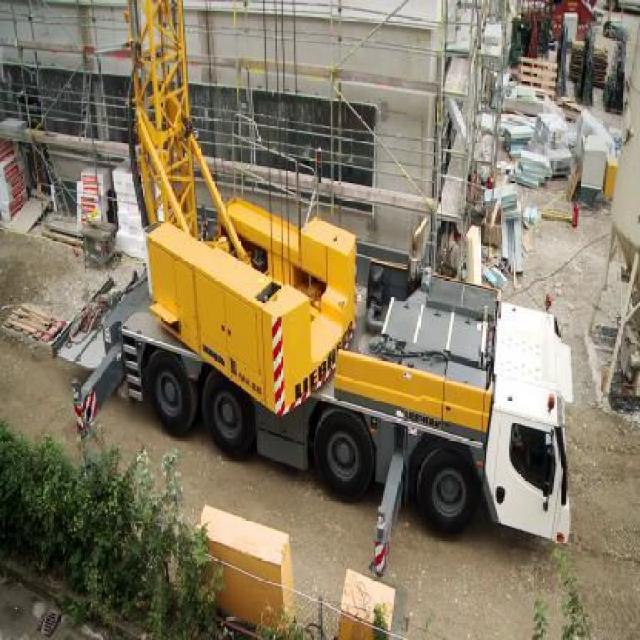Mobile Crane: (65, 0, 569, 578)
